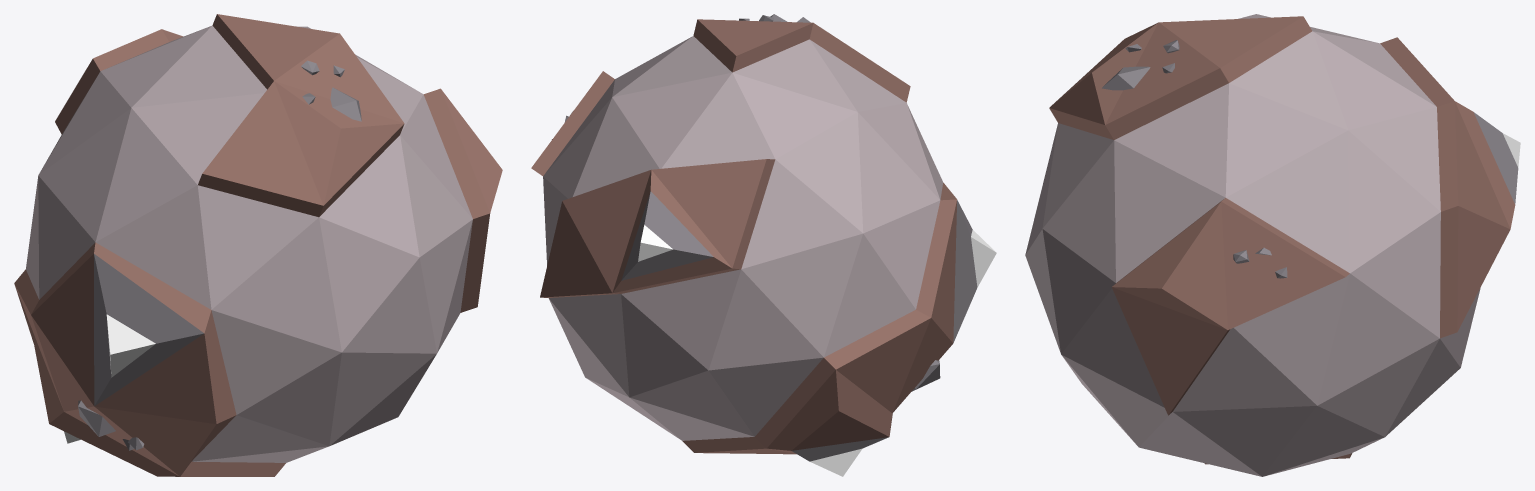
Rendered from Planet.fbx.
3 renders of one model, left to right at view 1: azimuth 30°, elevation 25°; view 2: azimuth 150°, elevation 25°; view 3: azimuth 270°, elevation 25°, orthographic. The views are drawn at different scales.
Visible parts, largest first — view 1: Planet.000; view 2: Planet.000; view 3: Planet.000.
Boxes of the visible parts, x1,y1,x2,y2 form: Planet.000: (14,14,502,476); Planet.000: (531,14,996,476); Planet.000: (1025,14,1520,476).
Size of the model in its own units: 2.12 by 2.07 by 2.09.
